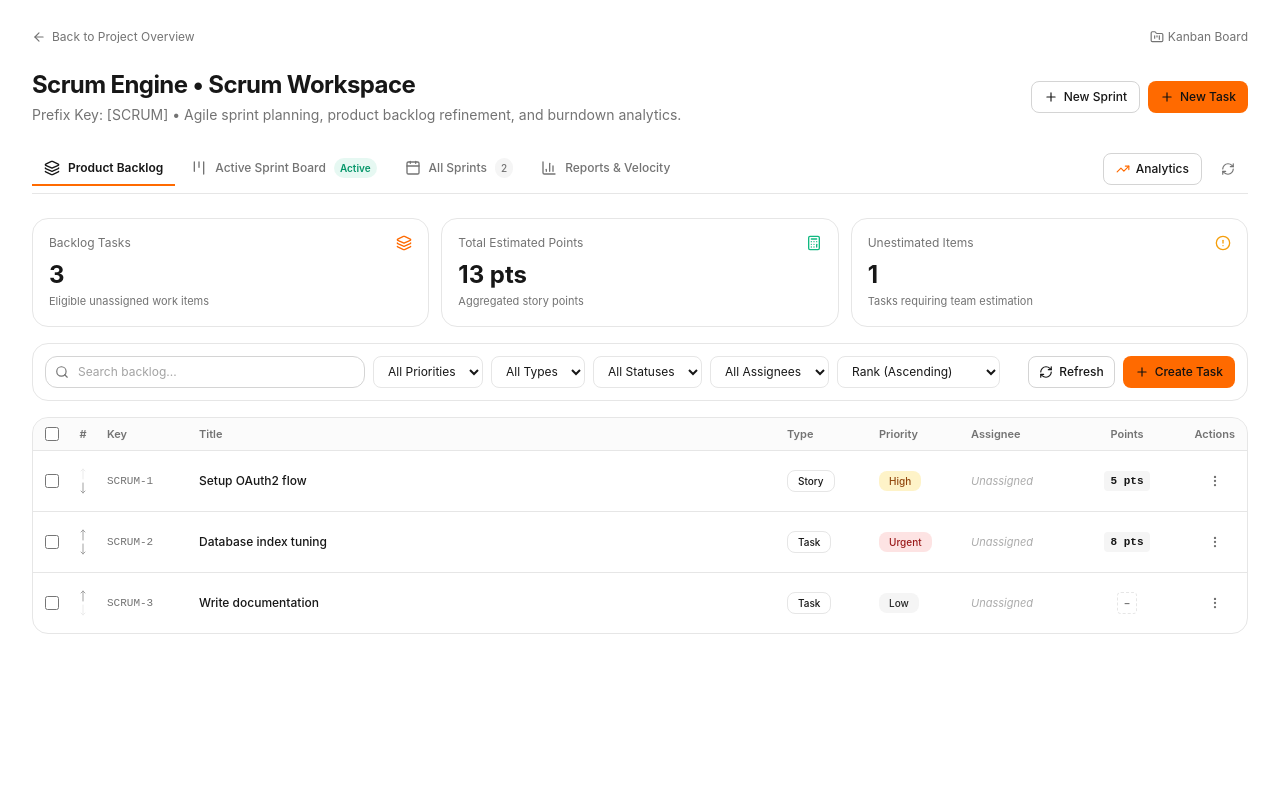
Test case: ProjectScrumPage › allows switching to Reports & Velocity tab
Expected: the heading "Scrum Engine • Scrum Workspace" is shown, left=32, top=70, right=415, bottom=99
Click the button "Reports & Velocity".
click(606, 169)  # box left=529, top=152, right=682, bottom=186
(page scrolled)
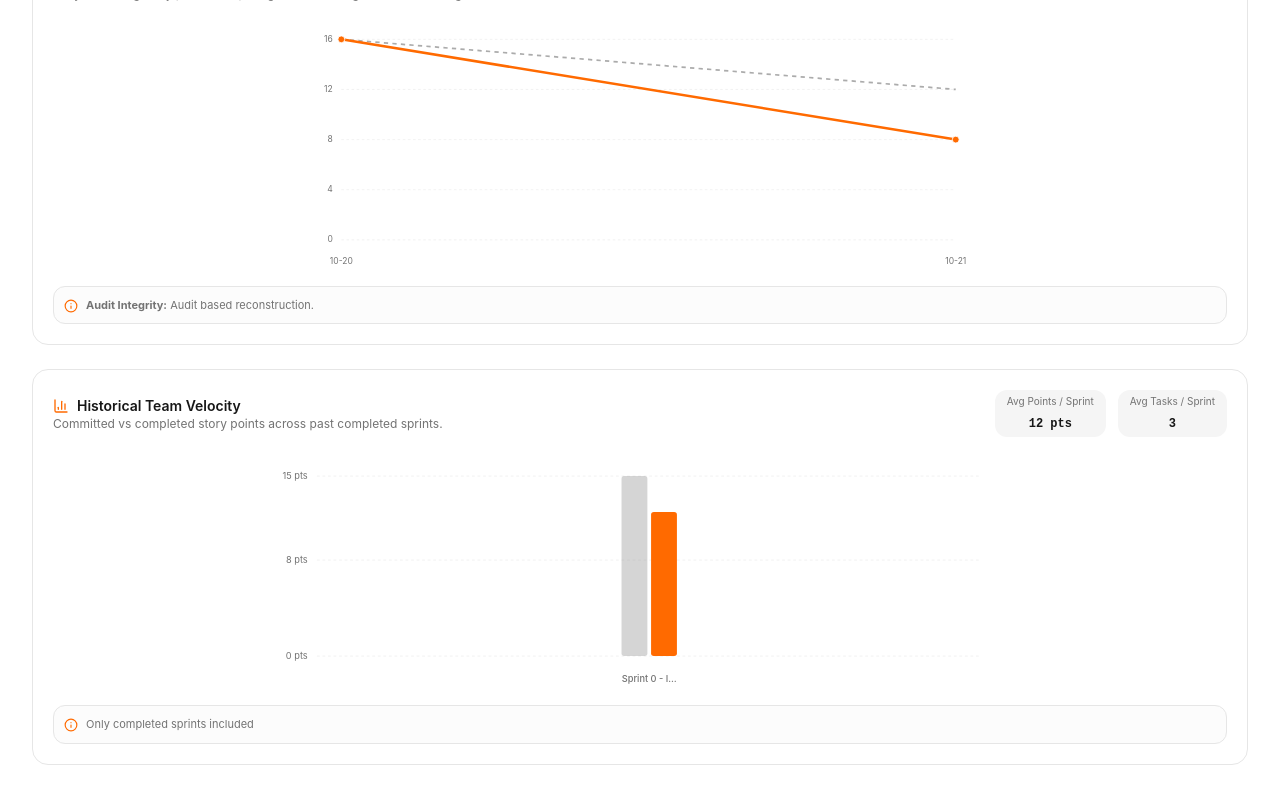
Now the text "Historical Team Velocity" is shown, box left=77, top=396, right=241, bottom=416
Now the text "12 pts" is shown, box left=1029, top=417, right=1072, bottom=431
